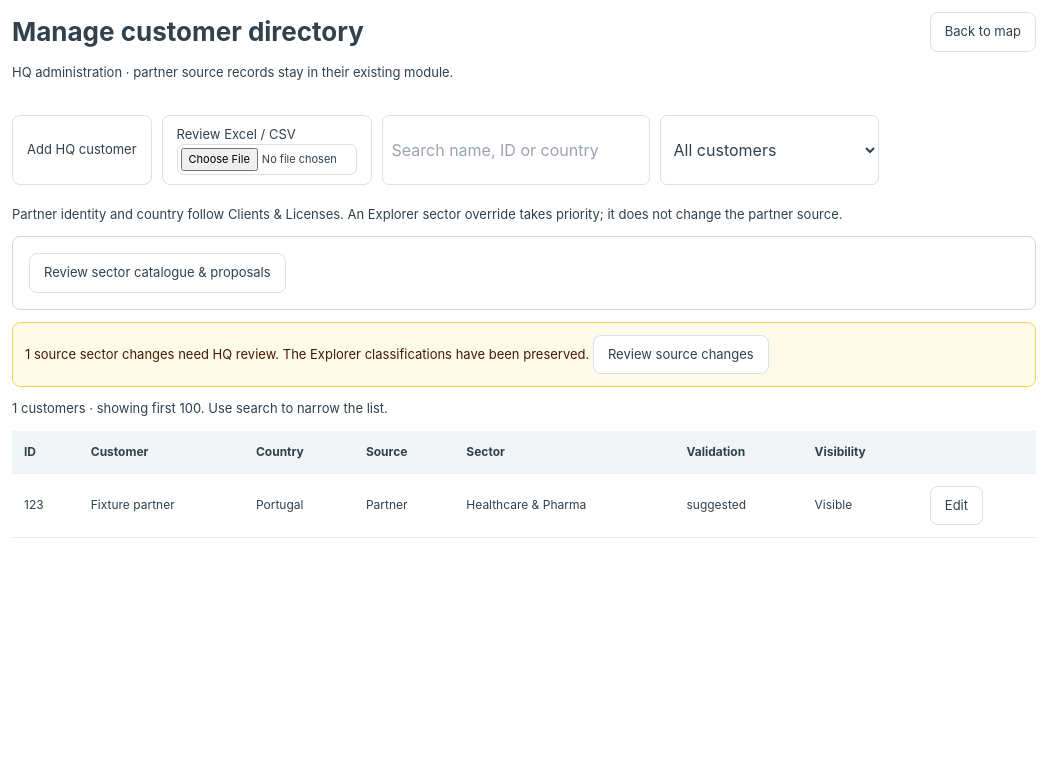
Test: HQ sector source review › requires an explicit acknowledgement to retain the Explorer sector
The width and height of the screenshot is (1048, 780).
Click the button "Edit" at (956, 505), box [930,486,983,525]
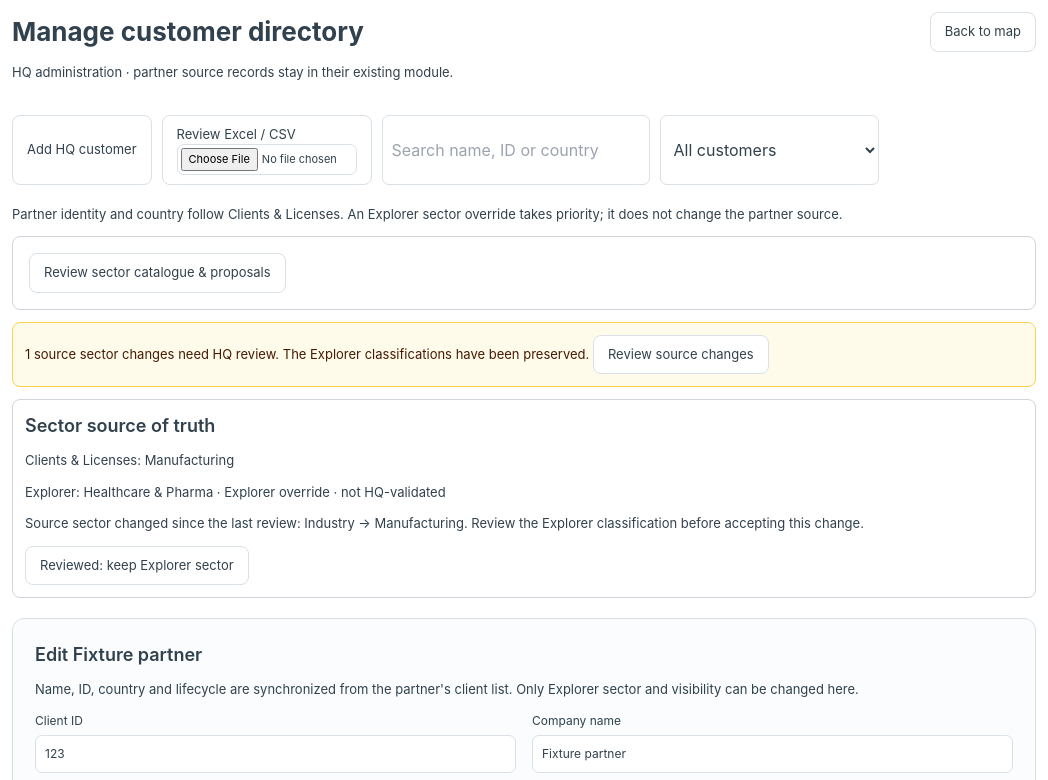
Click the button "Reviewed: keep Explorer sector" at (137, 565), box [25,546,249,585]
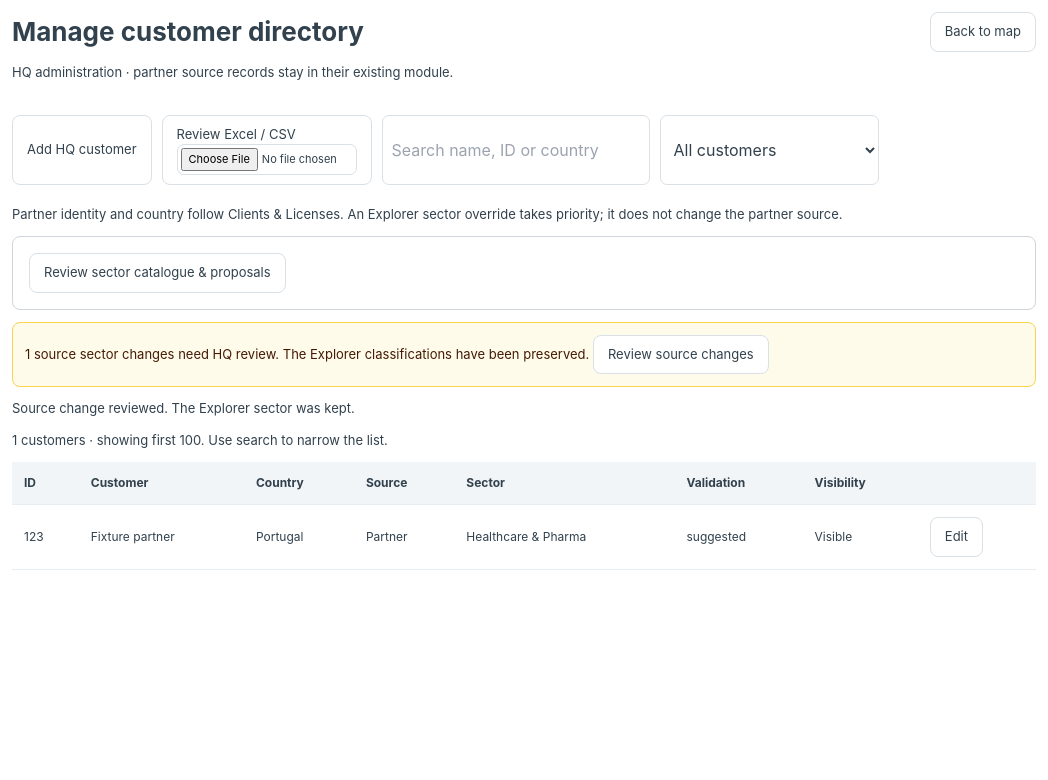
Now the text "Source change reviewed. The Explorer sector was kept." is shown, box [12,400,355,416]
